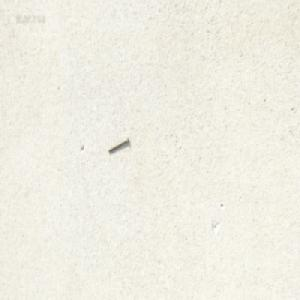Bolt: (107, 135, 129, 153)
